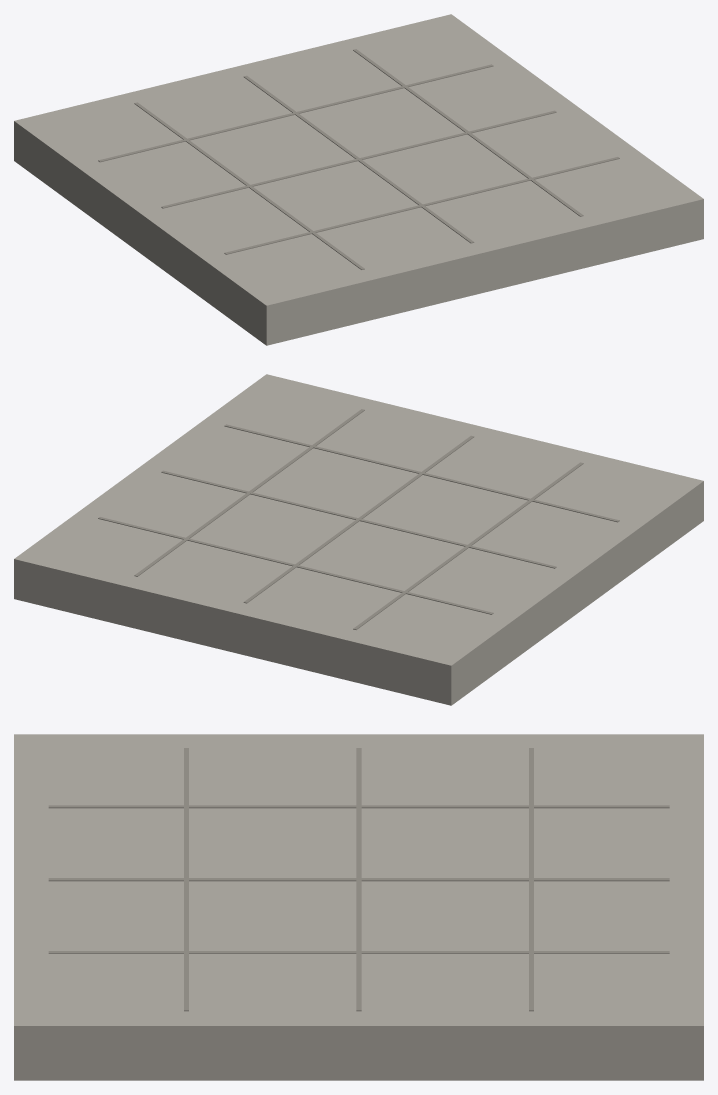
The model's file is Sidewalk_Plain.glb.
3 renders of one model, top to bottom at view 1: azimuth 30°, elevation 25°; view 2: azimuth 150°, elevation 25°; view 3: azimuth 270°, elevation 25°, orthographic. The views are drawn at different scales.
Parts seen in each view (by area): view 1: Sidewalk_Plain; view 2: Sidewalk_Plain; view 3: Sidewalk_Plain.
Boxes of the visible parts, x1,y1,x2,y2 form: Sidewalk_Plain: [14, 14, 703, 345]; Sidewalk_Plain: [14, 374, 703, 705]; Sidewalk_Plain: [14, 734, 703, 1080].
Size of the model in its own units: 4 by 0.356 by 4.
Materials: 1 (1 with a texture image).
